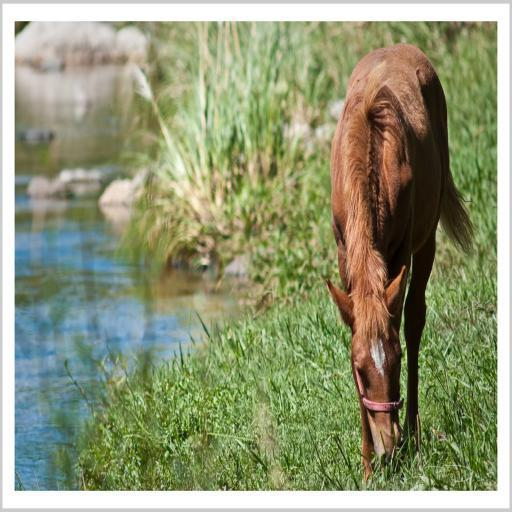horse: (327, 38, 474, 468)
